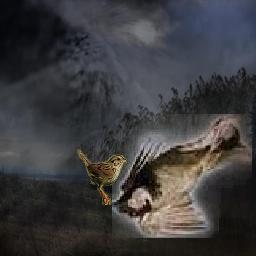Sparrow: (112, 114, 252, 238), (77, 149, 128, 205)
